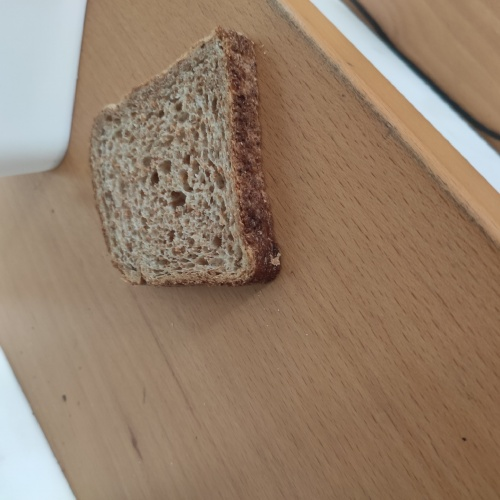pane: (80, 21, 289, 296)
